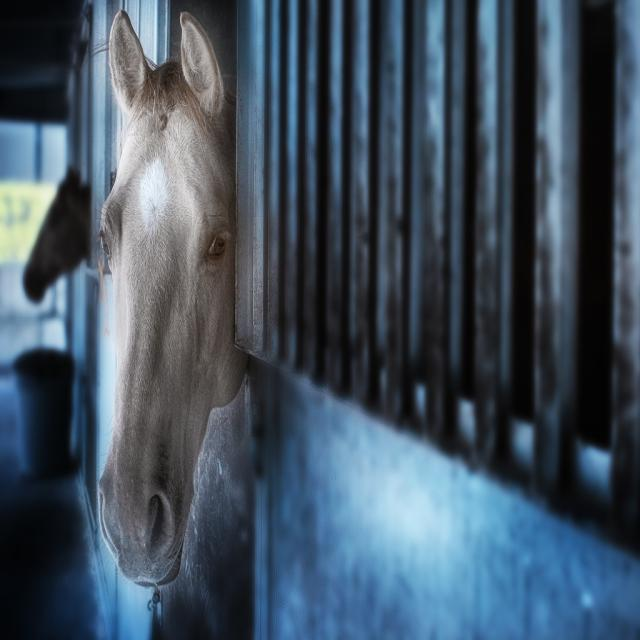Horse: (95, 8, 251, 586), (22, 165, 93, 308)
